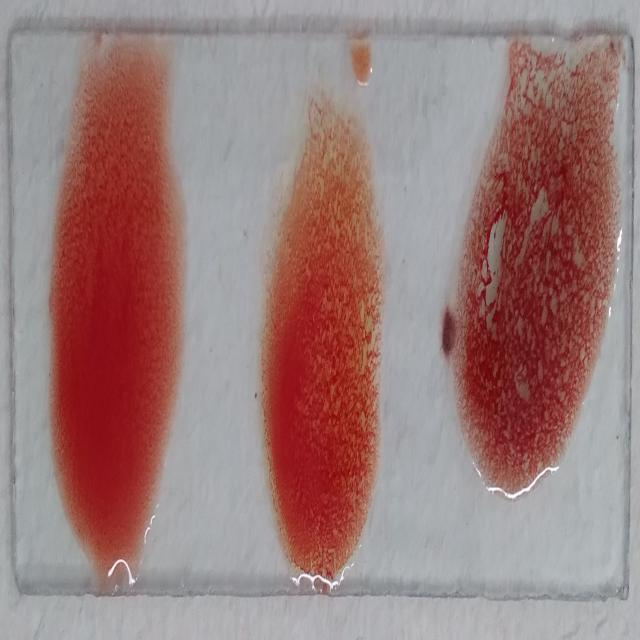A: (457, 46, 607, 490)
B: (268, 111, 378, 581)
D: (53, 51, 190, 582)
